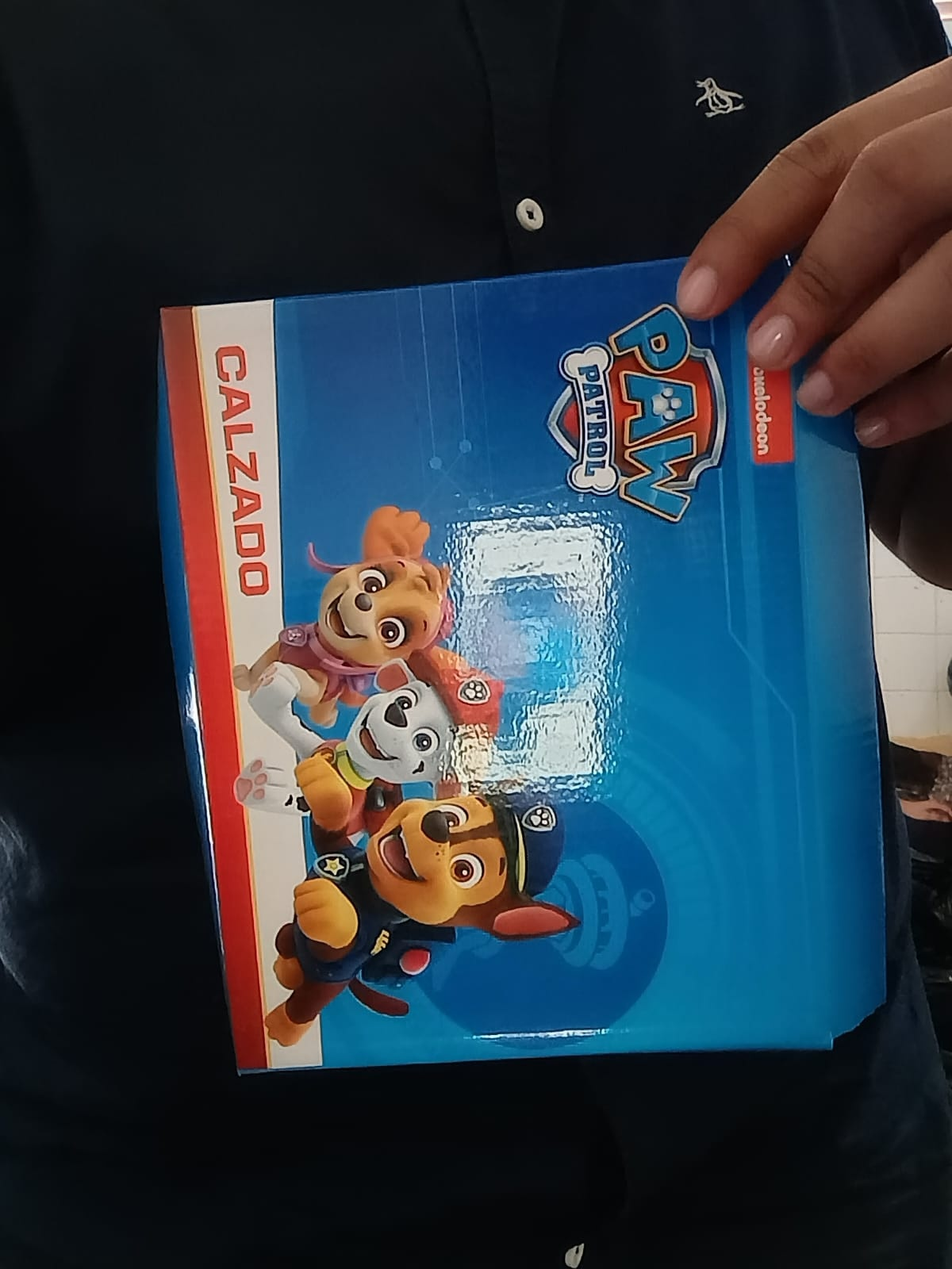Carton: (156, 262, 894, 1074)
